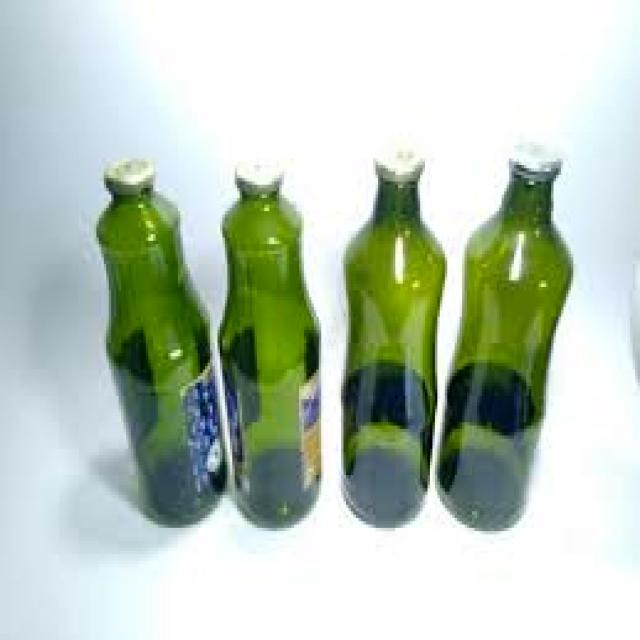Glass: (433, 135, 575, 537), (91, 153, 231, 535), (338, 139, 447, 535), (217, 155, 324, 537)
